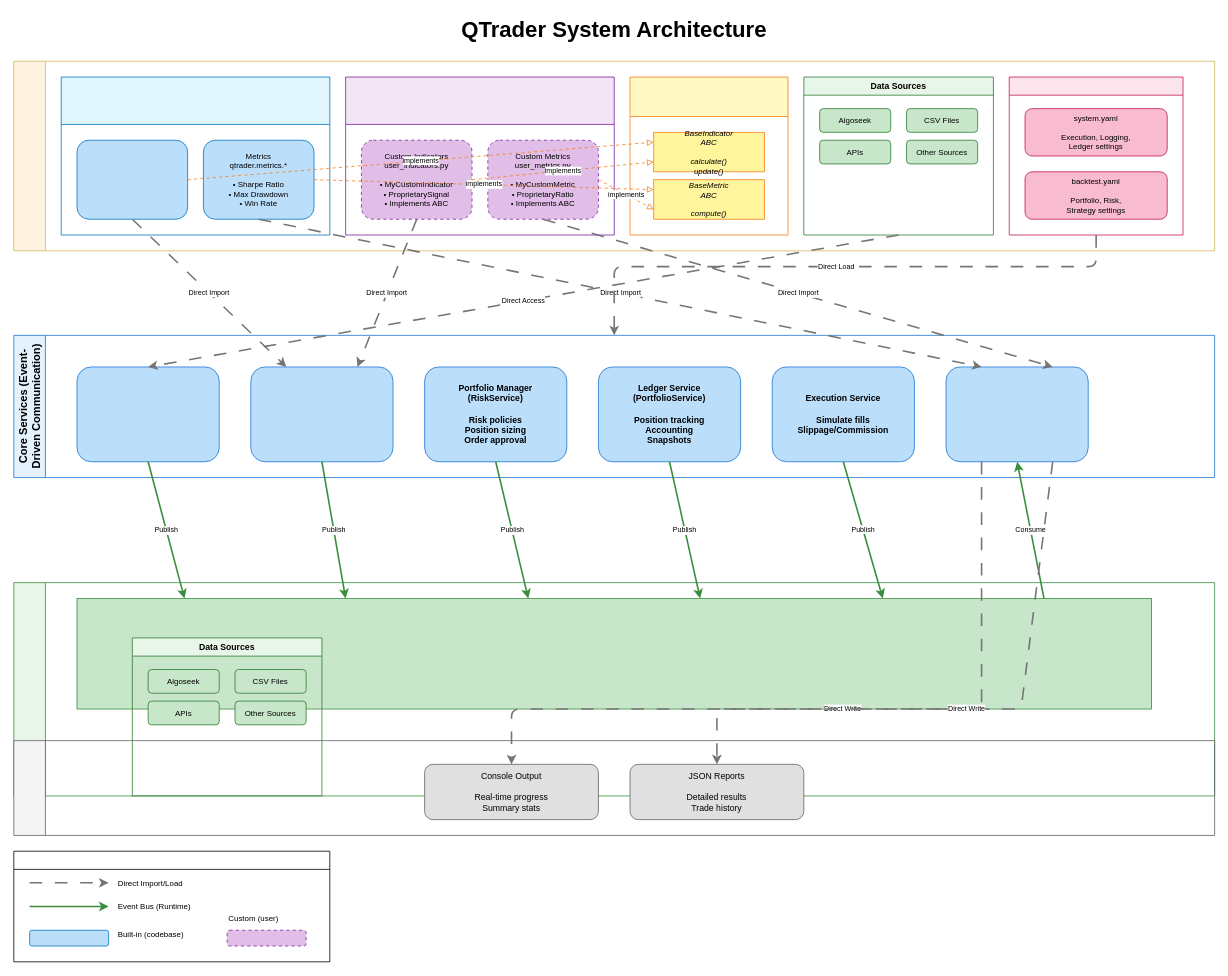
The diagram is 1228 pixels wide and 976 high, and some of its shapes have lost their labels. Each missing label, with the box of its shape:
Abstract Base Classes (Contracts): (629, 76, 788, 235)
Built-in Libraries (qtrader.*) Part of codebase: (60, 76, 330, 235)
Configuration: (1008, 76, 1183, 235)
Custom Libraries (User-provided) Follows ABC interface: (345, 76, 614, 235)
Data Service Stream market data from sources: (76, 366, 219, 462)
Event Bus (Runtime Events): (13, 582, 1215, 796)
External Resources (Direct Import / Load): (13, 60, 1215, 251)
Indicators qtrader.indicators.* • SMA, EMA • RSI, MACD • Bollinger Bands: (76, 139, 188, 219)
Legend: (13, 850, 330, 962)
Outputs (Direct Write): (13, 740, 1215, 835)
Reporting Service Calculate metrics Generate reports: (945, 366, 1088, 462)
Strategy Service Load strategies Generate signals: (250, 366, 393, 462)
